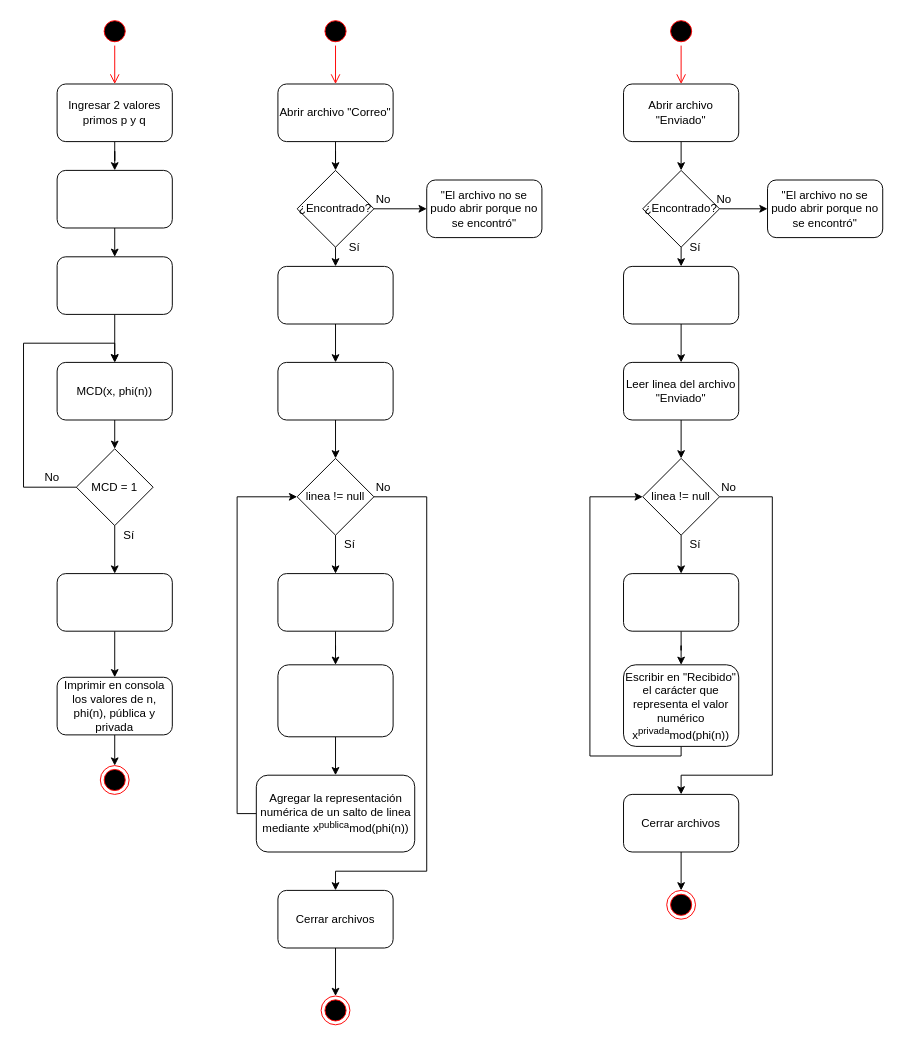
This 900x1042 diagram has some shape labels left out. Each missing label, with the centre of its shape:
Crear archivo "Enviado" para guardar los datos cifrados: (335,294)
Crear archivo "Recibido" para guardar los datos descifrados enviados: (681,294)
Escribir en "Enviado" x publica mod(phi(n)) y separarla con espacio: (335,700)
Leer linea del archivo "Correo": (335,390)
llave pública = x llave privada = x -1: (114,602)
n = p·q: (114,198)
phi(n) = (p-1)(q-1): (114,285)
Por cada carácter obtener valor ASCII 'x': (335,602)
Por cada valor numérico 'x': (681,602)
